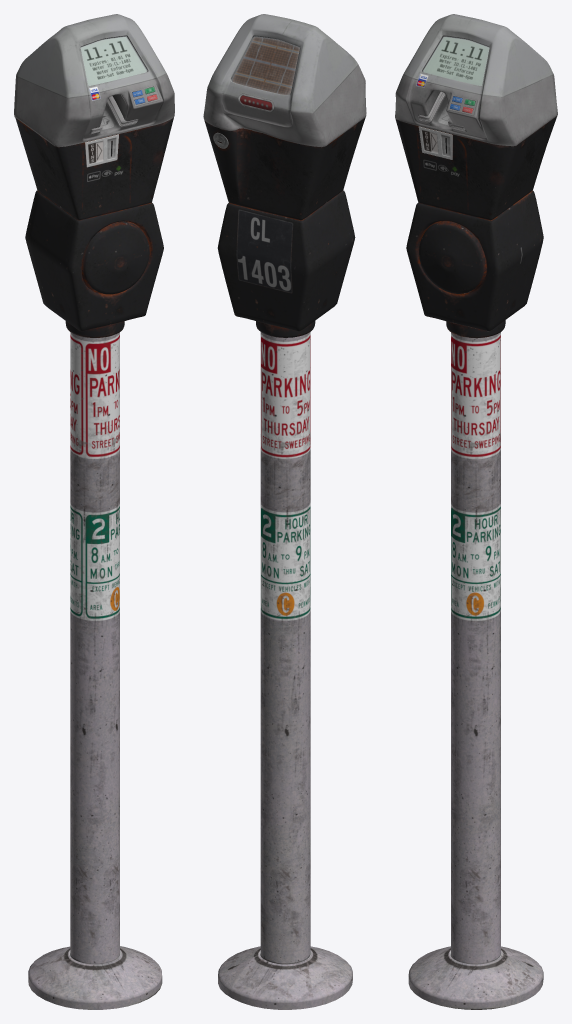
File: Parking Meter.glb
The picture shows the model from 3 angles, left to right: view 1: azimuth 30°, elevation 25°; view 2: azimuth 150°, elevation 25°; view 3: azimuth 330°, elevation 25°; orthographic projection.
Visible parts, largest first — view 1: meterpole_low, metermid_low, metertop_low, pay_low, coin_low, card_low, buttons_low; view 2: meterpole_low, metermid_low, metertop_low, solar_low, light_low; view 3: meterpole_low, metermid_low, metertop_low, pay_low, coin_low, buttons_low.
Boxes of the visible parts, bbox=[...] form: meterpole_low: bbox=[28, 332, 162, 1009]; metermid_low: bbox=[15, 117, 173, 337]; metertop_low: bbox=[14, 14, 174, 147]; pay_low: bbox=[80, 36, 147, 85]; coin_low: bbox=[85, 134, 118, 167]; card_low: bbox=[89, 96, 138, 134]; buttons_low: bbox=[130, 85, 160, 106]; meterpole_low: bbox=[218, 332, 352, 1009]; metermid_low: bbox=[204, 117, 365, 337]; metertop_low: bbox=[203, 14, 366, 147]; solar_low: bbox=[231, 36, 299, 94]; light_low: bbox=[238, 93, 274, 112]; meterpole_low: bbox=[408, 332, 543, 1009]; metermid_low: bbox=[395, 116, 557, 338]; metertop_low: bbox=[395, 14, 557, 146]; pay_low: bbox=[423, 36, 489, 85]; coin_low: bbox=[418, 126, 452, 159]; buttons_low: bbox=[448, 94, 477, 115].
Size of the model in its own units: 0.1651 by 1.25 by 0.1604.
1 material, 1 textured.
